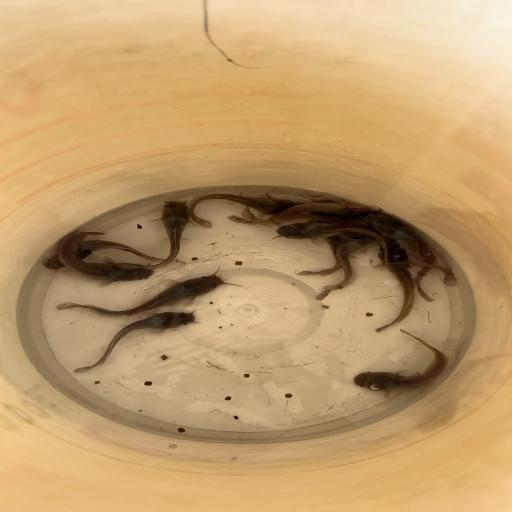lele: (70, 310, 200, 377), (53, 272, 228, 318), (368, 211, 464, 286), (350, 328, 450, 395), (113, 198, 191, 274), (29, 238, 188, 271), (272, 223, 392, 266), (60, 229, 156, 282), (188, 192, 296, 228), (373, 248, 415, 333), (318, 238, 372, 300), (226, 202, 376, 224), (293, 236, 343, 278), (413, 238, 443, 302), (242, 207, 343, 224)
